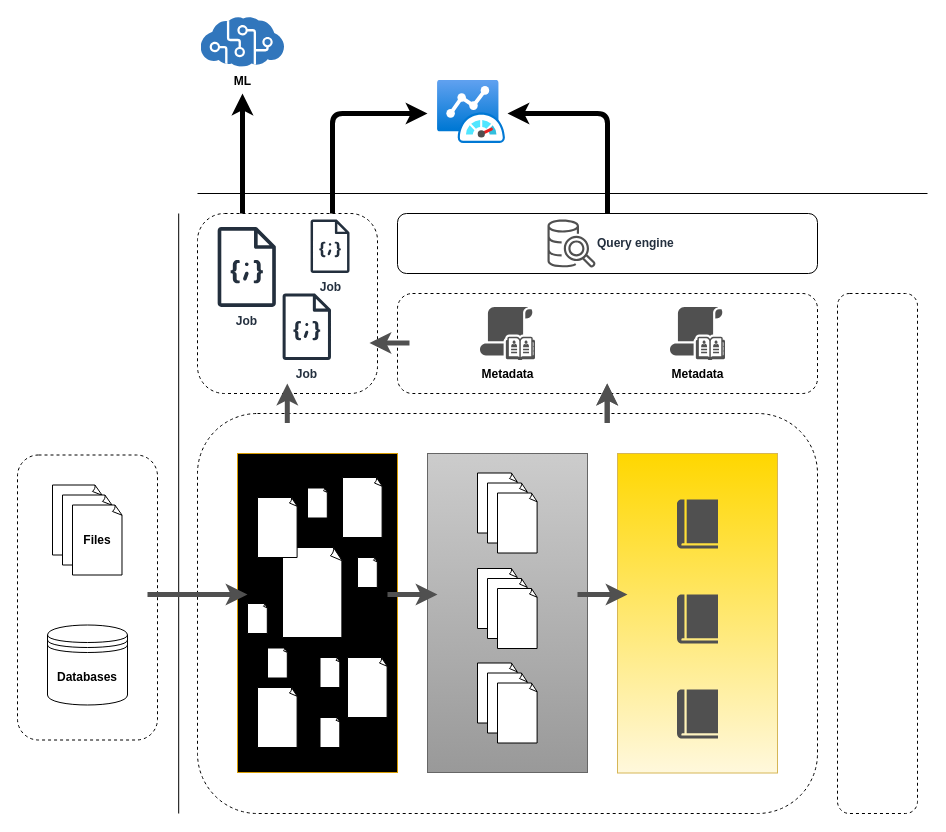
Image size: 946x832. Some labels were removed from this diagram. The shapes that lost their labels are listed below. From the top down, each one's box as (x1, y1, x2, y2) in pixels, then its label:
(437, 80, 505, 143): Report
(836, 292, 918, 814): Data governance
(236, 452, 398, 772): Bronze
(426, 452, 588, 772): Silver
(616, 452, 778, 773): Gold
